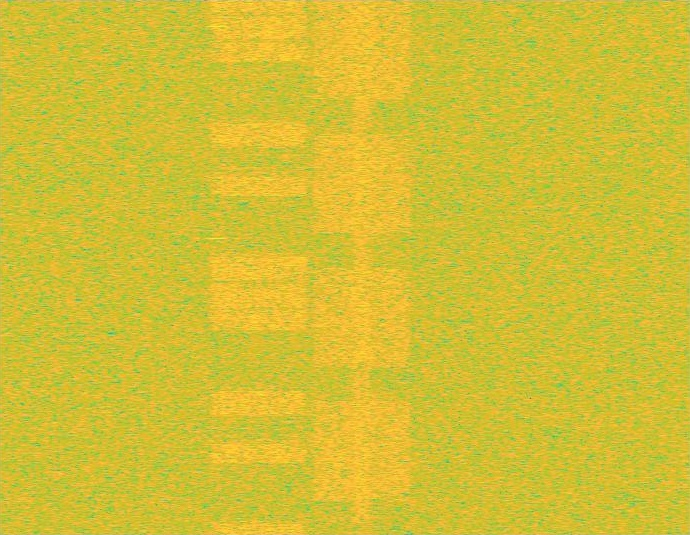5G: (311, 0, 414, 534)
DSSS: (351, 0, 374, 534)
LTE: (207, 0, 311, 534)
Radar: (210, 0, 223, 534)
